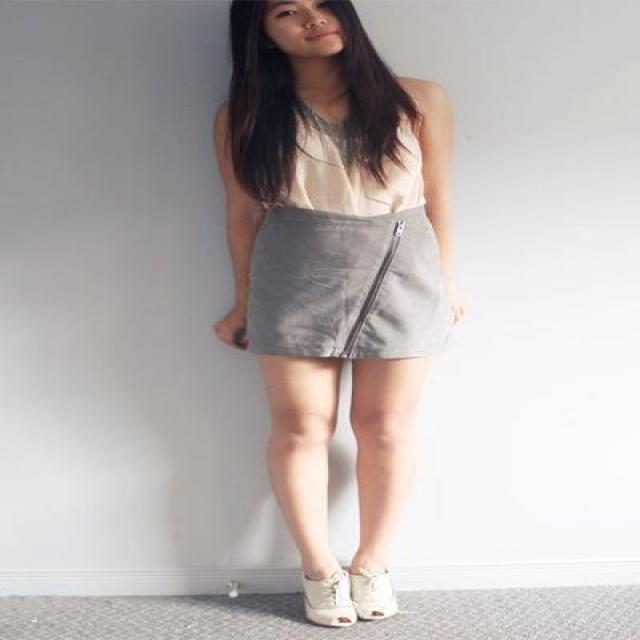shirt: (290, 120, 424, 216)
shoe: (277, 555, 382, 625)
skirt: (234, 183, 431, 370)
